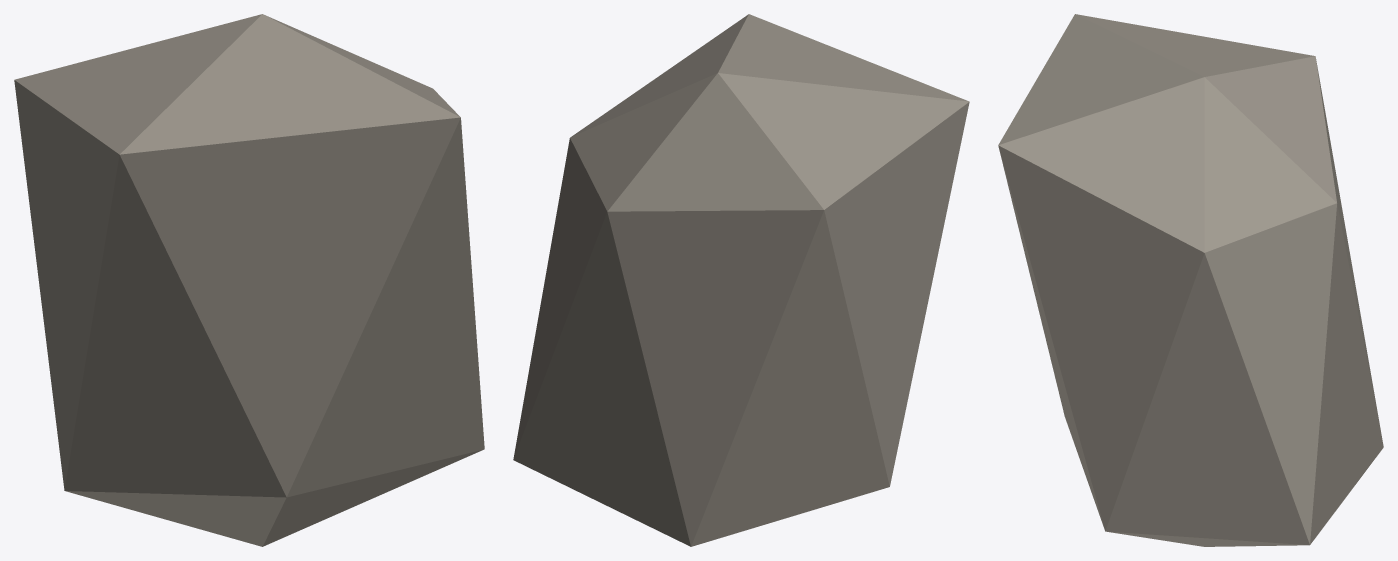
The model's file is HS_LP_Rock_Cliff_02.fbx.
The picture shows the model from 3 angles, left to right: view 1: azimuth 30°, elevation 25°; view 2: azimuth 150°, elevation 25°; view 3: azimuth 270°, elevation 25°; orthographic projection. The views are drawn at different scales.
Visible parts, largest first — view 1: HS_LP_Rock_Cliff_02; view 2: HS_LP_Rock_Cliff_02; view 3: HS_LP_Rock_Cliff_02.
Part boxes in pixels (x1,y1,x2,y2): HS_LP_Rock_Cliff_02: [14, 14, 484, 546]; HS_LP_Rock_Cliff_02: [513, 14, 969, 546]; HS_LP_Rock_Cliff_02: [998, 14, 1383, 546].
Bounding box in the file's own units: 147 × 190 × 142.
